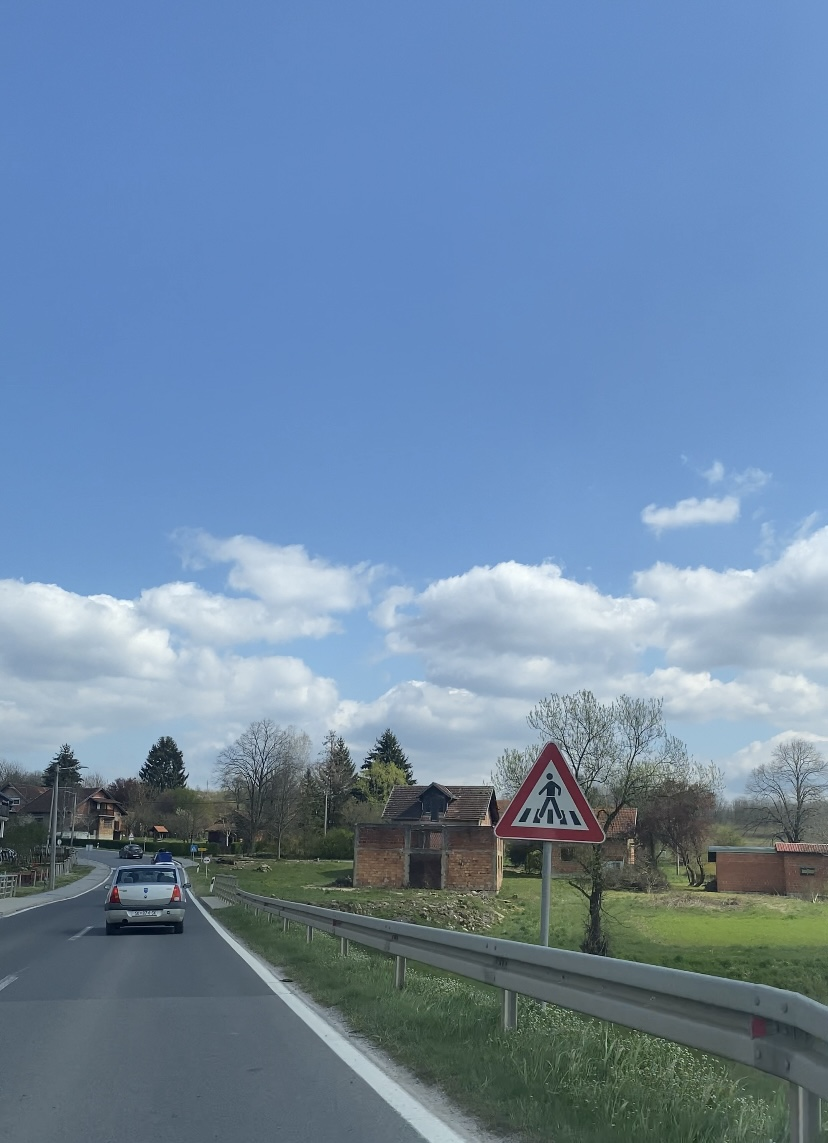Približavanje pješačkom prijelazu: (493, 741, 606, 844)
